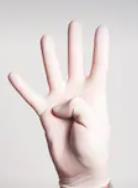right: (5, 20, 114, 182)
